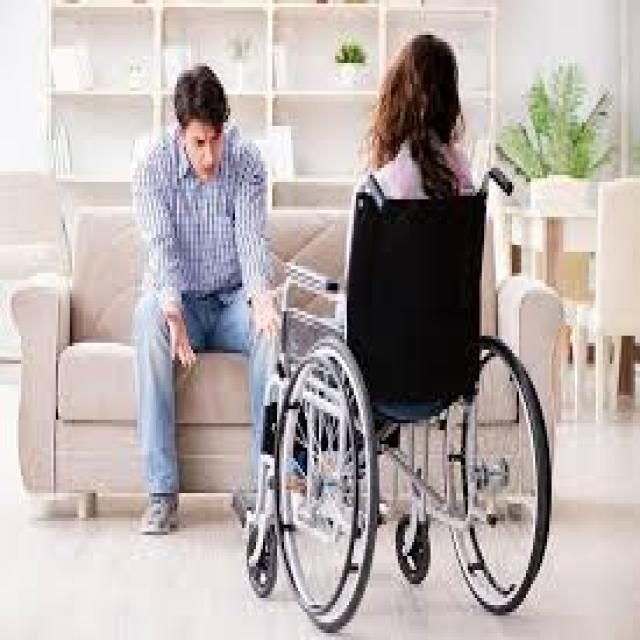wheelchair: (258, 32, 552, 616)
